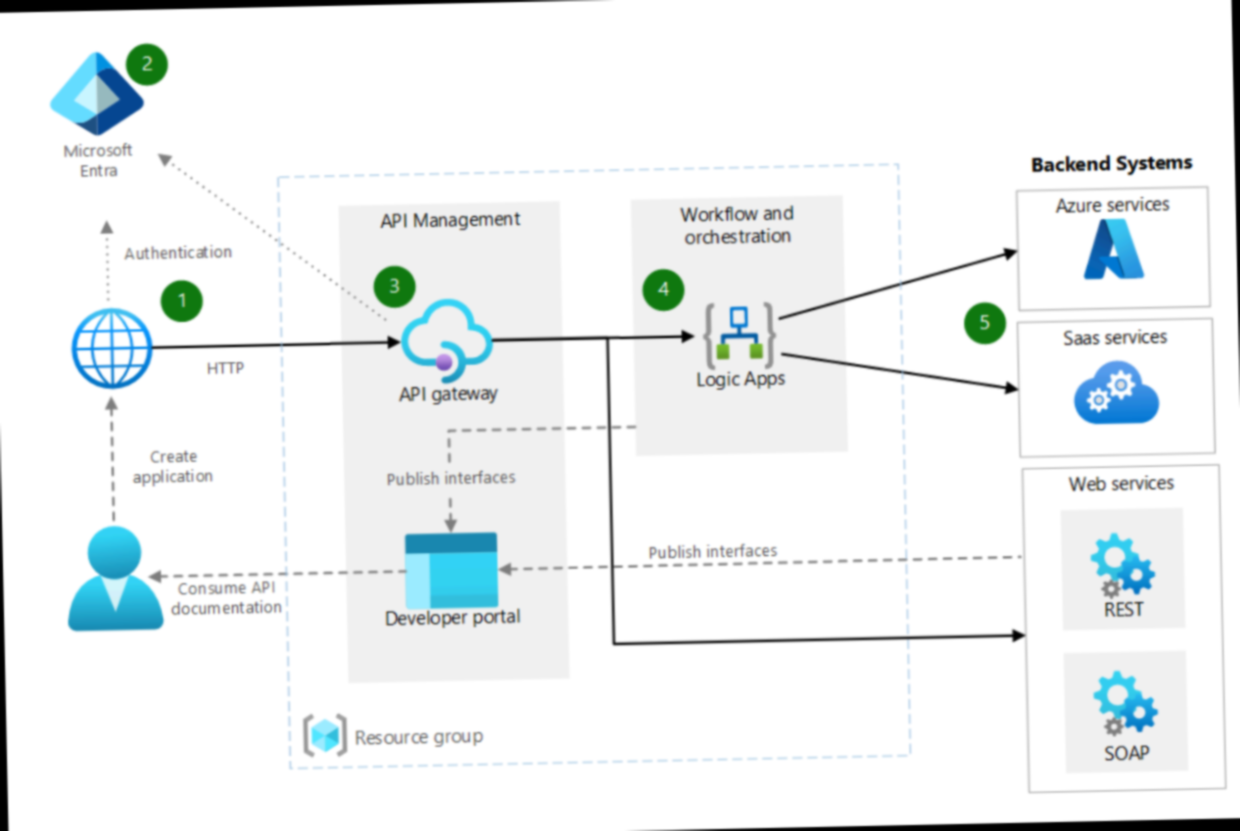api: (1088, 667, 1167, 767), (1083, 528, 1162, 622)
azure_services: (1049, 191, 1178, 287)
developer_portal: (398, 527, 499, 608)
logic_apps: (699, 293, 776, 370)
microsoft_entra: (43, 46, 149, 137), (397, 297, 495, 385)
resource_group: (67, 305, 155, 390), (298, 707, 350, 757)
sass_services: (1062, 352, 1168, 429)
user: (63, 525, 164, 633)
